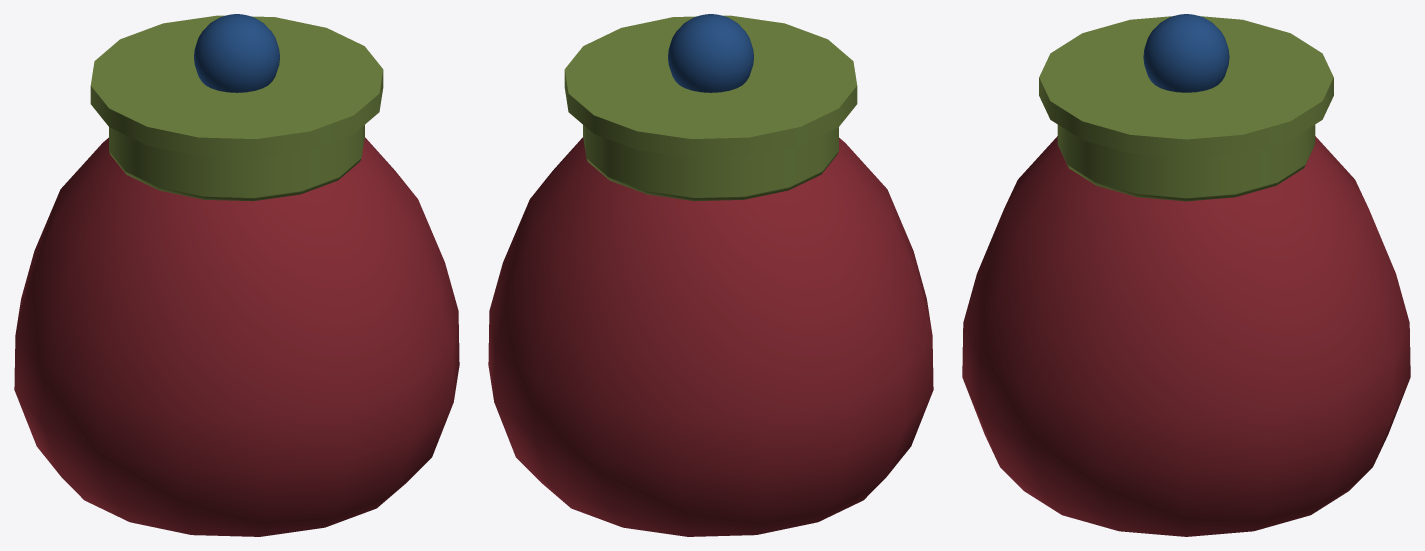
Rendered from Container_Style_10.fbx.
The picture shows the model from 3 angles, left to right: view 1: azimuth 30°, elevation 25°; view 2: azimuth 150°, elevation 25°; view 3: azimuth 270°, elevation 25°; orthographic projection.
Visible parts, largest first — view 1: SetA_Container_Style_10; view 2: SetA_Container_Style_10; view 3: SetA_Container_Style_10.
Boxes of the visible parts, bbox=[...] form: SetA_Container_Style_10: bbox=[14, 14, 459, 536]; SetA_Container_Style_10: bbox=[488, 14, 933, 536]; SetA_Container_Style_10: bbox=[962, 14, 1410, 536].
Bounding box in the file's own units: 0.2131 × 0.2332 × 0.2131.
